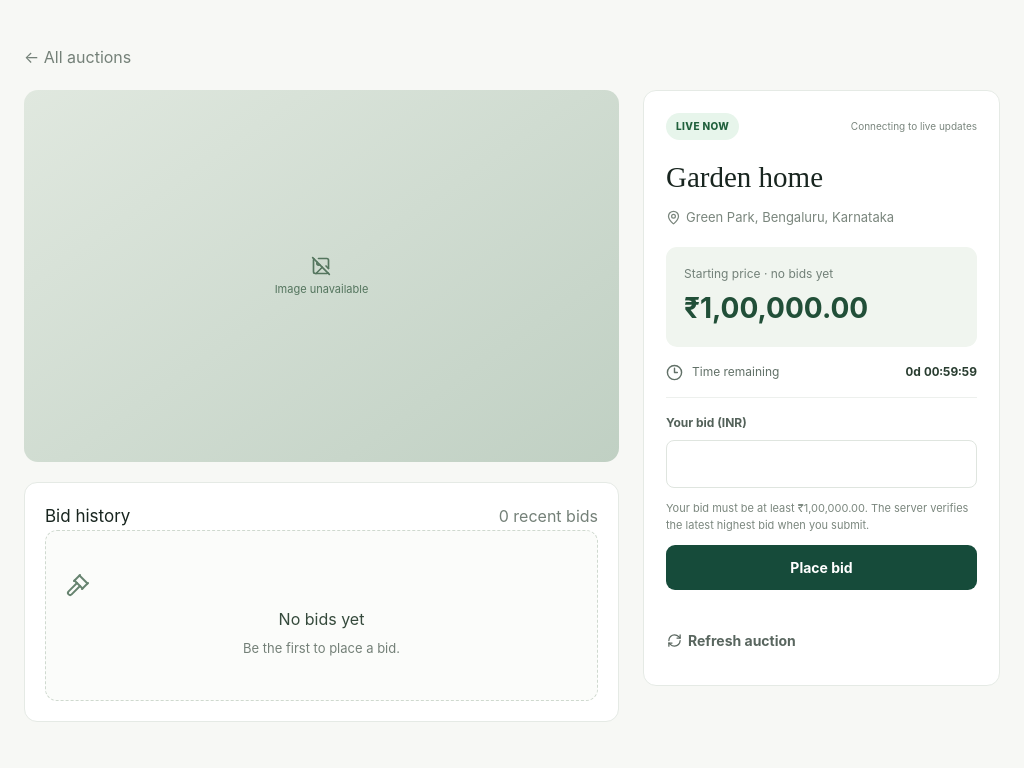
AuctionDetailsPage › places a bid and applies server-confirmed live bid updates
The width and height of the screenshot is (1024, 768).
Expected: the text "Starting price · no bids yet" is shown, [684,266,833,281]
Type "100000" into the number field labelled "Your bid (INR)" at x=822, y=464, box [666,440,977,488]
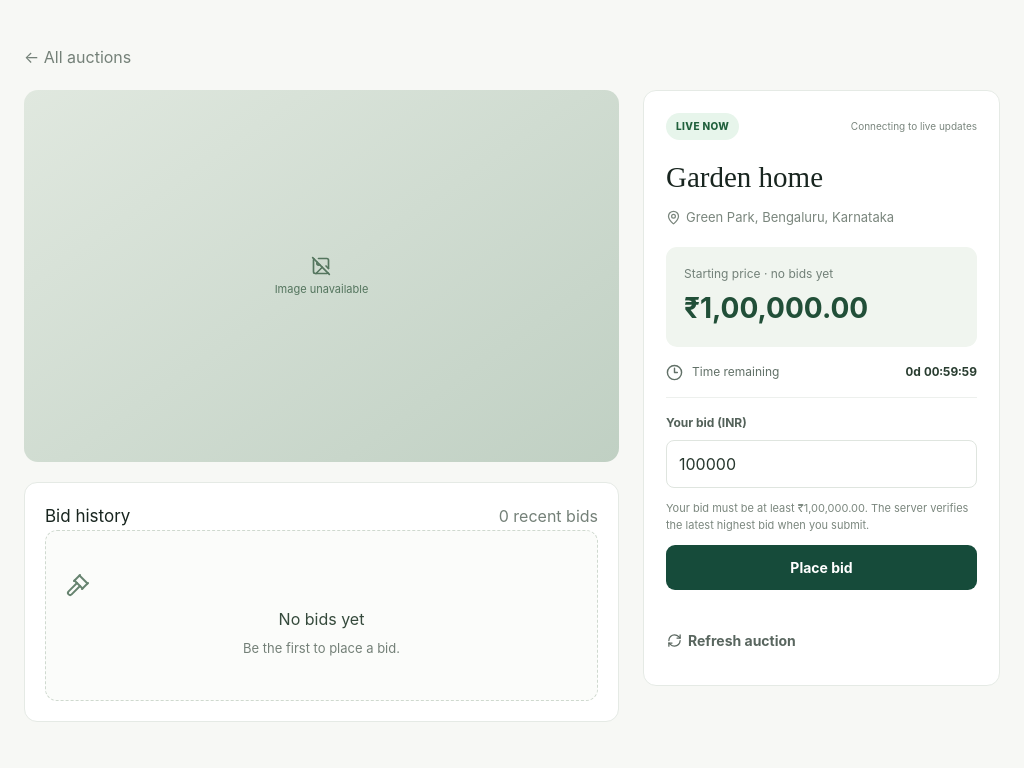
Click the button "Place bid" at x=822, y=568, box [666,545,977,590]
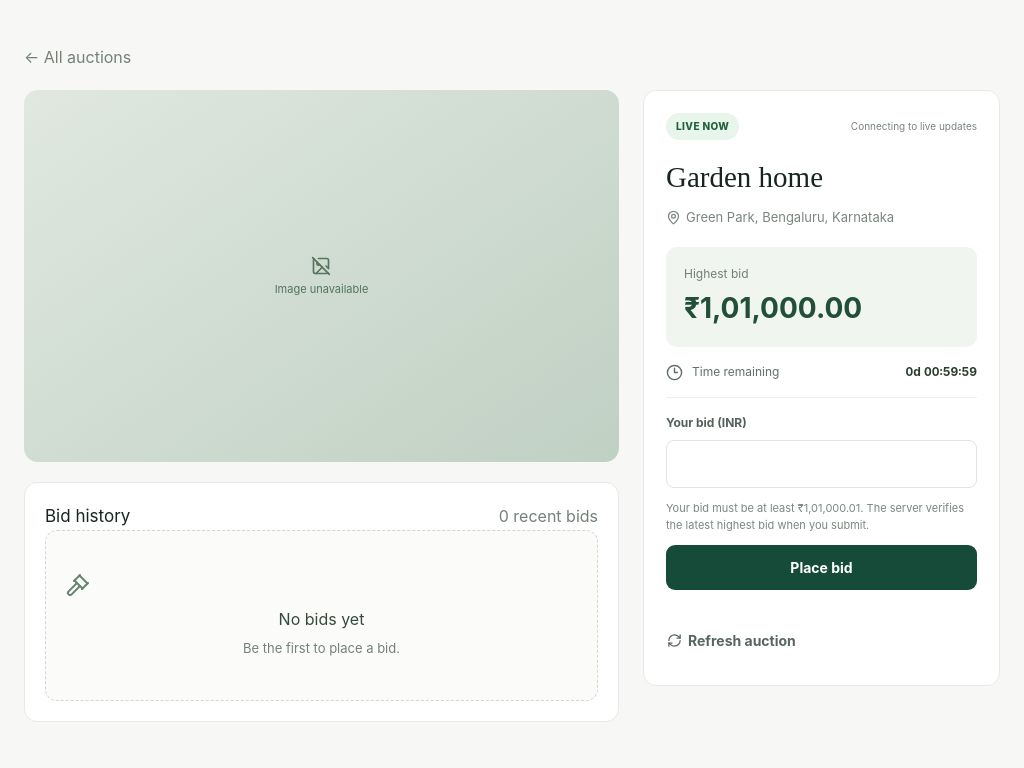
Expected: the text "Highest bid" is shown, [684,266,748,281]
Expected: the text "₹1,01,000.00" is shown, [684,291,862,325]
